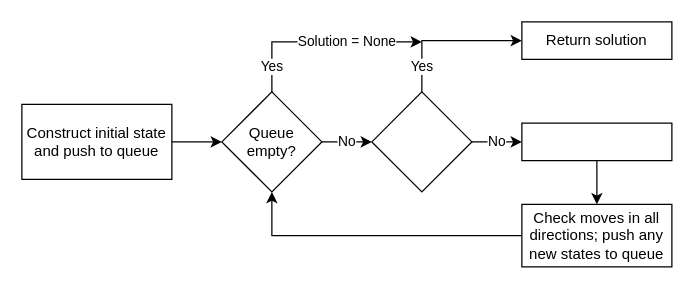
Image size: 694x289. Some labels were removed from this diagram. Here are the shapes that lost their labels. From the top down, the box of each, then its label:
(371, 91, 472, 192): Found solution?
(521, 122, 672, 161): Pop state from queue
